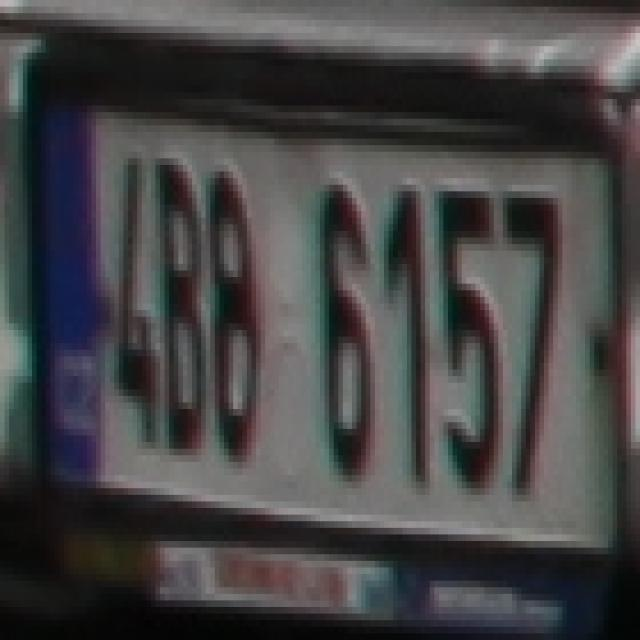1: (384, 172, 434, 502)
4: (105, 152, 156, 448)
5: (434, 172, 502, 502)
6: (311, 178, 388, 488)
7: (502, 172, 562, 502)
B: (197, 164, 270, 468), (151, 158, 206, 468)
